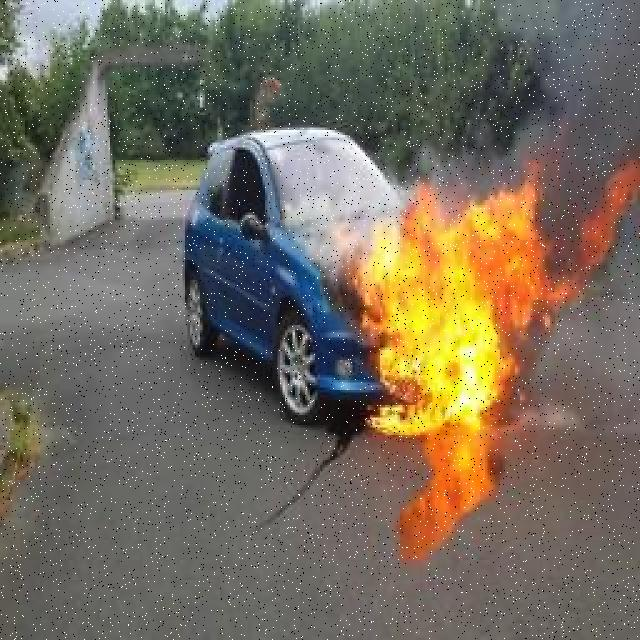fire: (350, 160, 630, 438)
